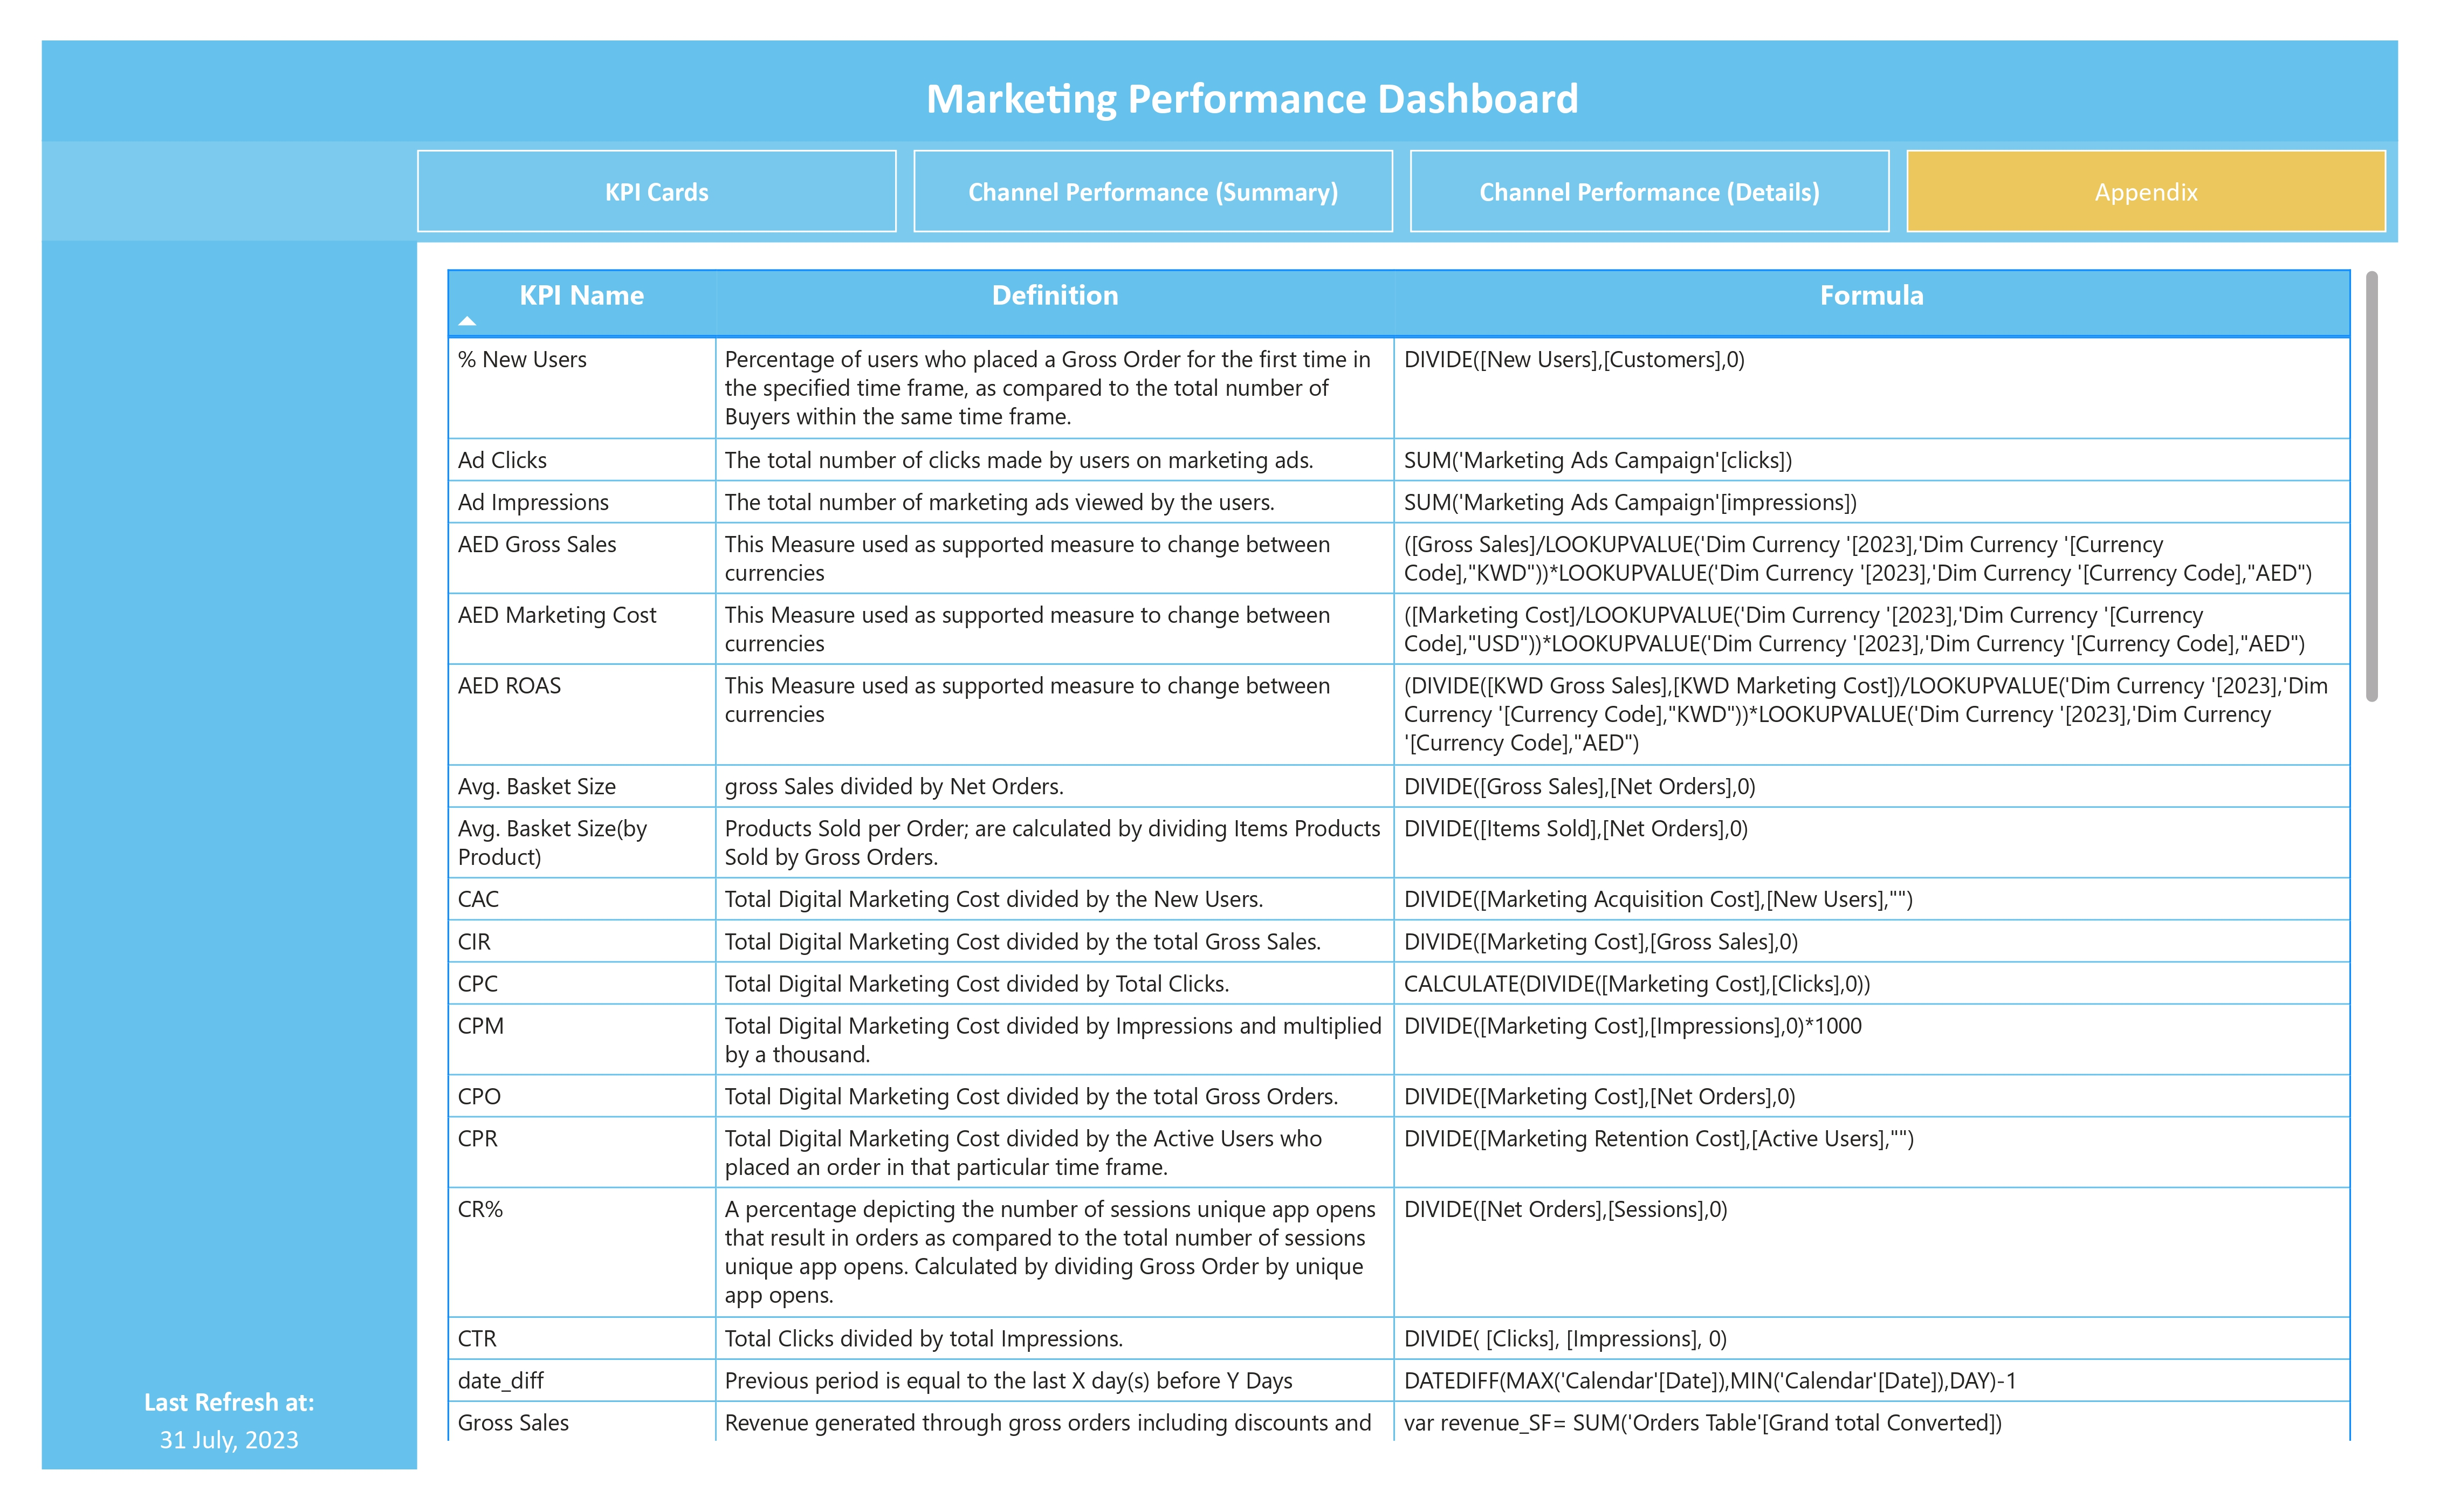

The dashboard page shown, as its layout file describes it:
{"tool":"powerbi","page":{"name":"Glossary","canvas":[1280,720],"ordinal":3},"visuals":[{"type":"textbox","box":[0,0,1280,50.7],"z":0},{"type":"shape","box":[0,0,75.7,1294.3],"z":1000},{"type":"actionButton","box":[15.7,50,50,51.4],"z":2000},{"type":"actionButton","box":[15.7,111.4,51.4,50],"z":3000},{"type":"actionButton","box":[15.7,177.1,51.4,50],"z":4000},{"type":"actionButton","box":[15.7,247.1,51.4,50],"z":5000},{"type":"tableEx","fields":{"Values":["KPI Definitions.Measure Name","KPI Definitions.Expression"]},"box":[425.7,52.9,854.3,667.1],"z":6000},{"type":"slicer","fields":{"Values":["KPI Definitions.Measure Name"]},"box":[75.7,52.9,351.4,667.1],"z":7000}]}

Visuals, with their boxes on the page's 1280x720 design canvas (x1, y1, x2, y2). These are canvas units, not pixel positions in the 2440x1512 screenshot, which may show the page scaled, cropped or inside an application window:
textbox: region(0, 0, 1280, 51)
shape: region(0, 0, 76, 1294)
actionButton: region(16, 50, 66, 101)
actionButton: region(16, 111, 67, 161)
actionButton: region(16, 177, 67, 227)
actionButton: region(16, 247, 67, 297)
tableEx - KPI Definitions.Measure Name x KPI Definitions.Expression: region(426, 53, 1280, 720)
slicer - KPI Definitions.Measure Name: region(76, 53, 427, 720)
